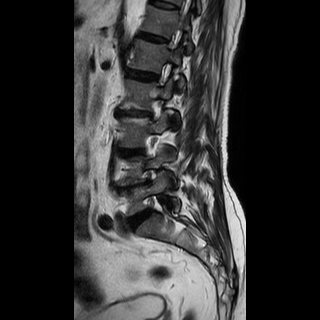LFS0: (138, 96, 169, 127), (132, 131, 163, 162), (148, 58, 176, 90)
LFS2: (132, 163, 163, 193)
